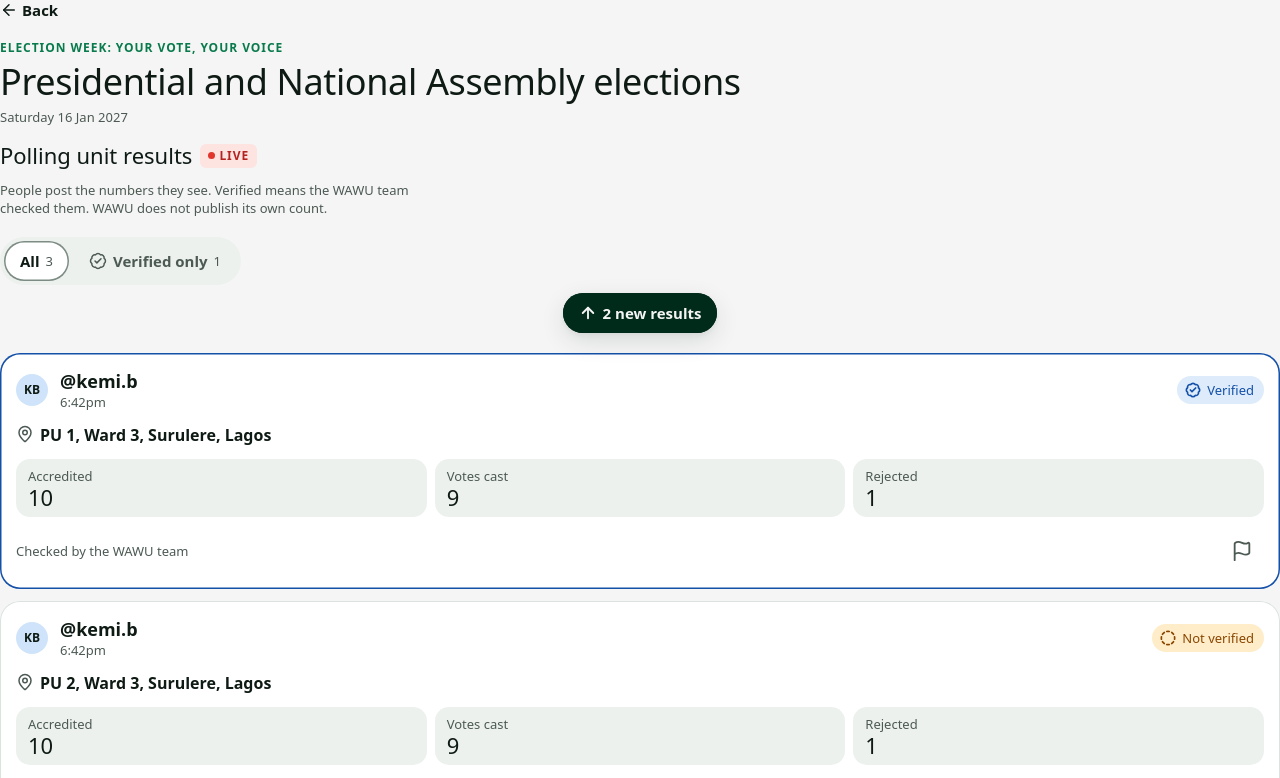
Test: LiveResultsPage › polls with after and shows the new results pill, then reloads on tap
The image size is (1280, 778).
expect the heading "Polling unit results" is shown: met, box x1=0 y1=142 x2=192 y2=169
Click the button "2 new results". click: (640, 313)
box: x1=563 y1=293 x2=718 y2=333
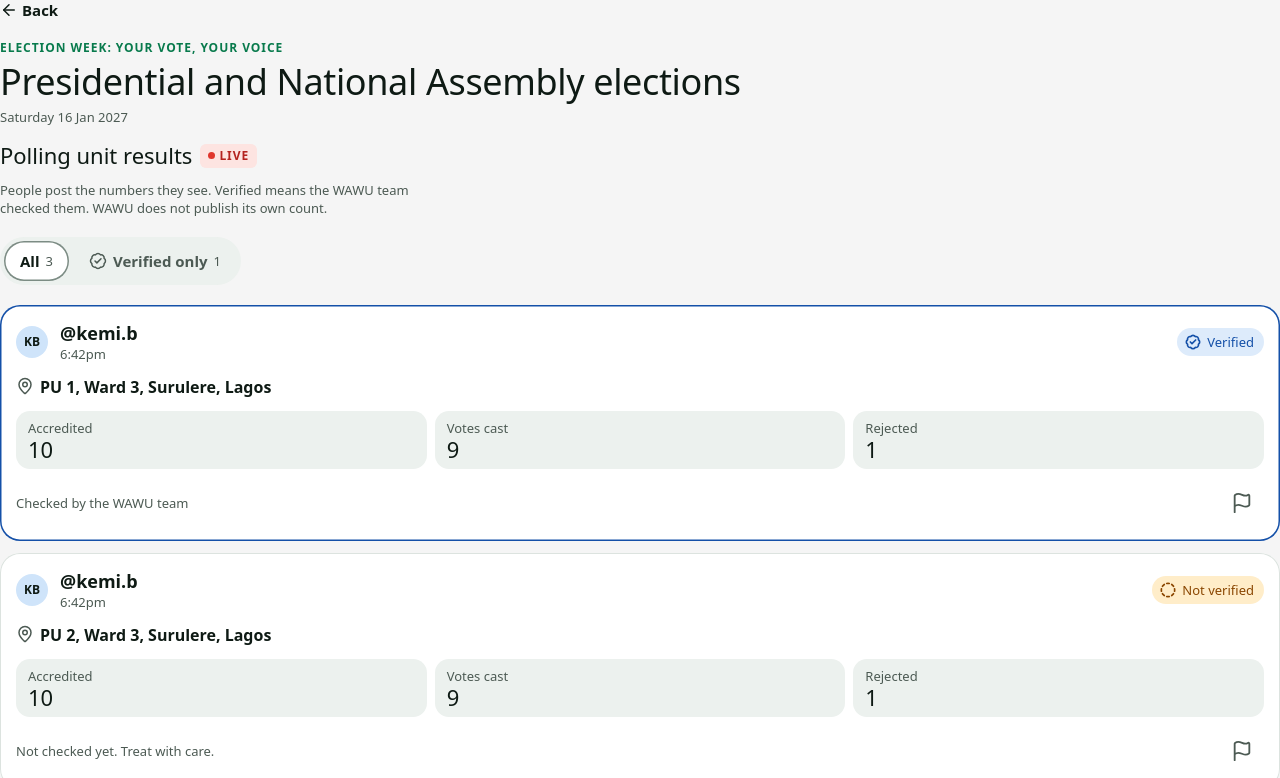
expect the button "2 new results" is gone: met
